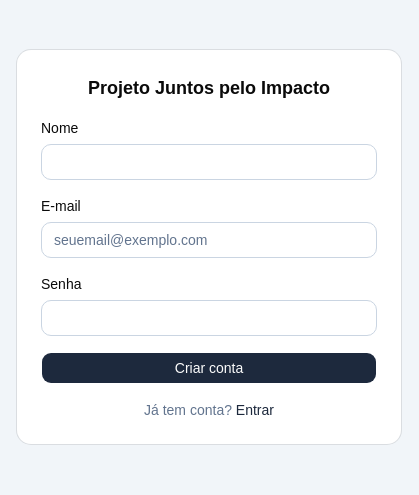
Test case: SignUpPage › shows validation errors when submitting empty form
Click the button "Criar conta".
click(209, 368)  # box [41,352,377,384]
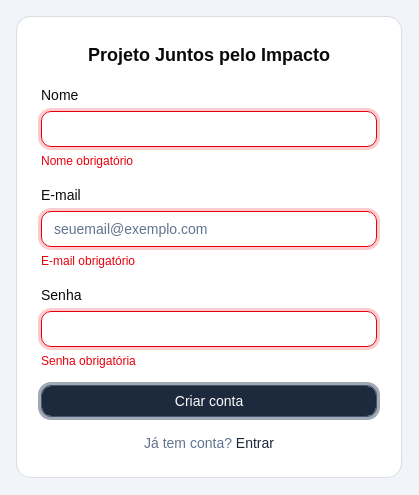
Result: the text "Nome obrigatório" is shown at [41,154,133,168]
Result: the text "E-mail obrigatório" is shown at [41,254,135,268]
Result: the text "Senha obrigatória" is shown at [41,354,136,368]
